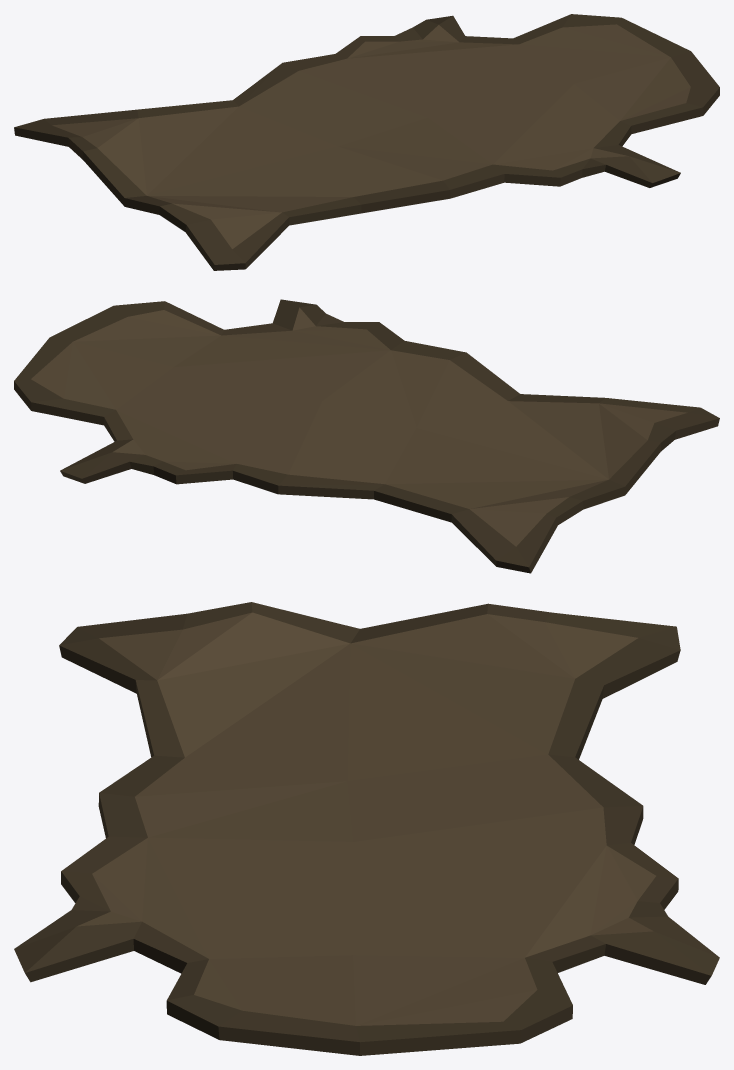
The model's file is EA03_Prop_Town_AnimalSkin_01c.glb.
3 views of the same model, one above another, from view 1: azimuth 30°, elevation 25°; view 2: azimuth 150°, elevation 25°; view 3: azimuth 270°, elevation 25° (orthographic). The views are drawn at different scales.
Parts seen in each view (by area): view 1: EA03_Prop_Town_AnimalSkin_01c; view 2: EA03_Prop_Town_AnimalSkin_01c; view 3: EA03_Prop_Town_AnimalSkin_01c.
Boxes of the visible parts, x1=… form: EA03_Prop_Town_AnimalSkin_01c: x1=14, y1=14, x2=719, y2=270; EA03_Prop_Town_AnimalSkin_01c: x1=14, y1=299, x2=719, y2=573; EA03_Prop_Town_AnimalSkin_01c: x1=14, y1=602, x2=719, y2=1055.
Size of the model in its own units: 1.51 by 0.0831 by 1.04.
Materials: 1 (1 with a texture image).
